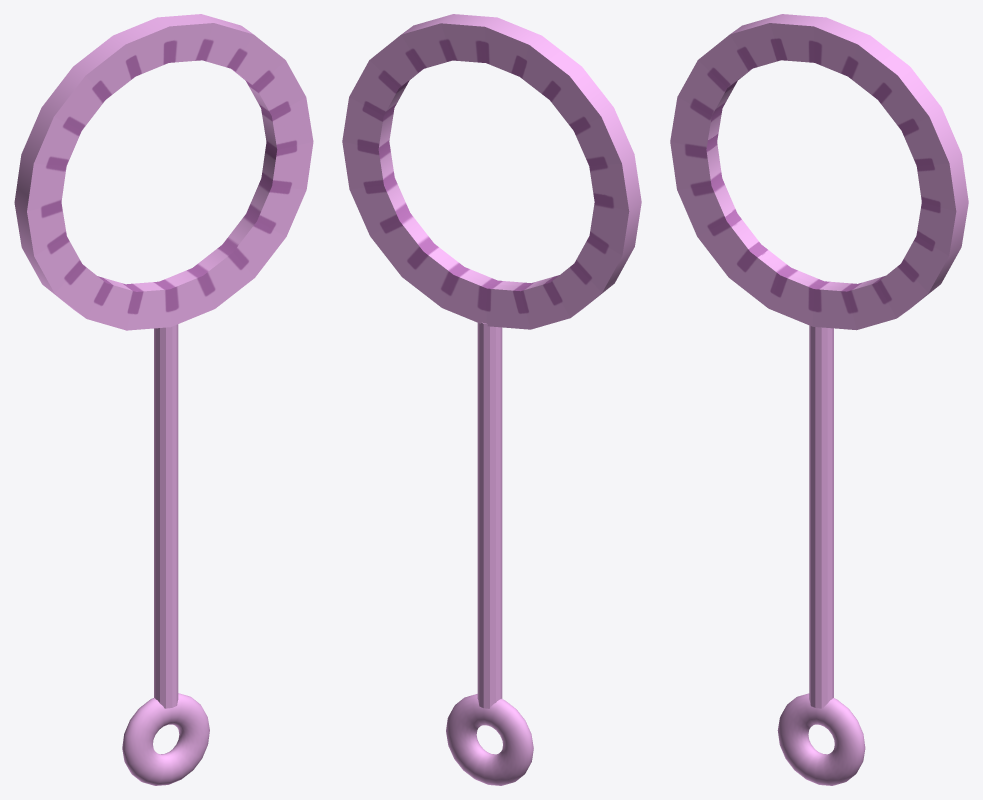
Rendered from wand.obj.
3 views of the same model, side by side, from view 1: azimuth 30°, elevation 25°; view 2: azimuth 150°, elevation 25°; view 3: azimuth 330°, elevation 25° (orthographic).
Parts seen in each view (by area): view 1: pCylinder6; view 2: pCylinder6; view 3: pCylinder6.
Boxes of the visible parts, box(x1,y1,x2,y2) form: pCylinder6: box(14, 14, 313, 785); pCylinder6: box(342, 14, 641, 785); pCylinder6: box(670, 14, 968, 785).
Size of the model in its own units: 10.04 by 25.53 by 0.8339.
1 material, 1 textured.
